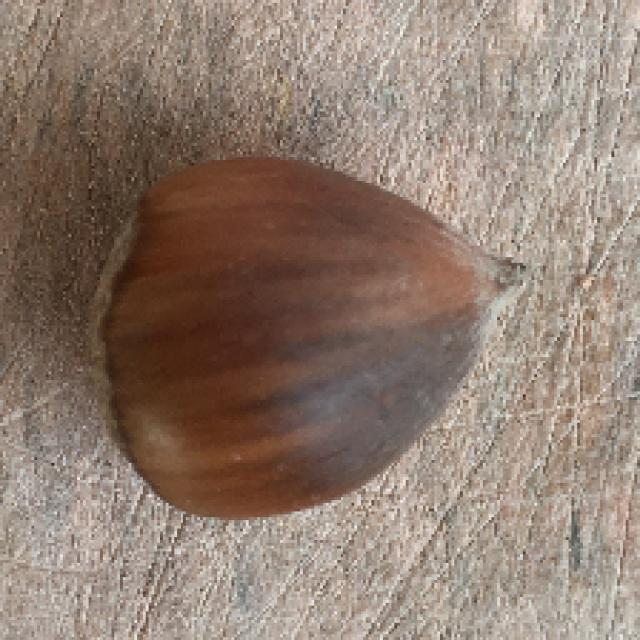damagedHazelnut: (87, 153, 524, 527)
